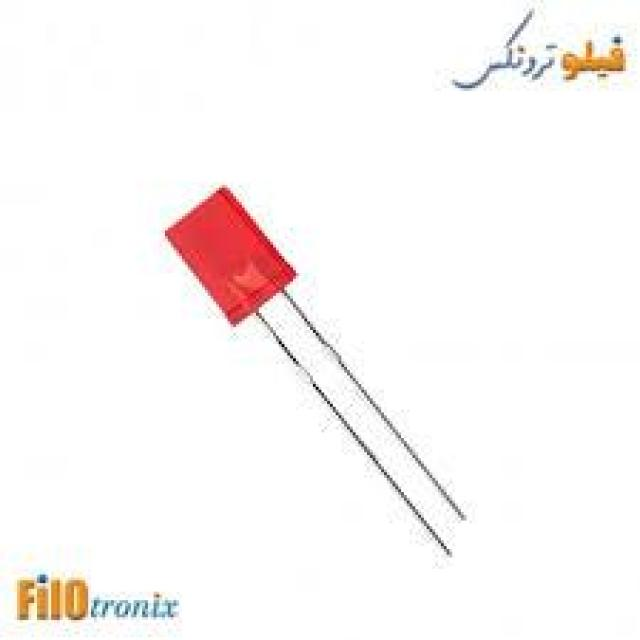Led: (168, 189, 450, 554)
